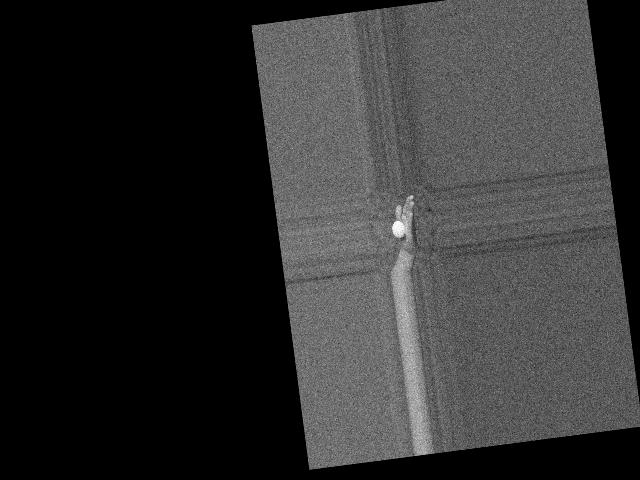egg: (391, 220, 406, 239)
